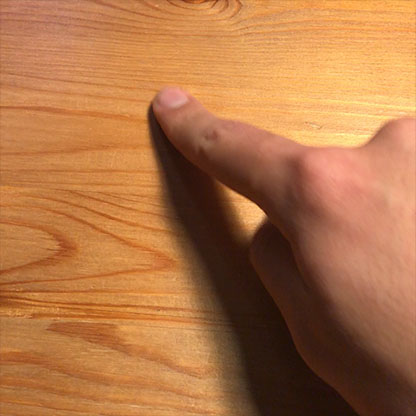fingertip: (143, 78, 197, 117)
